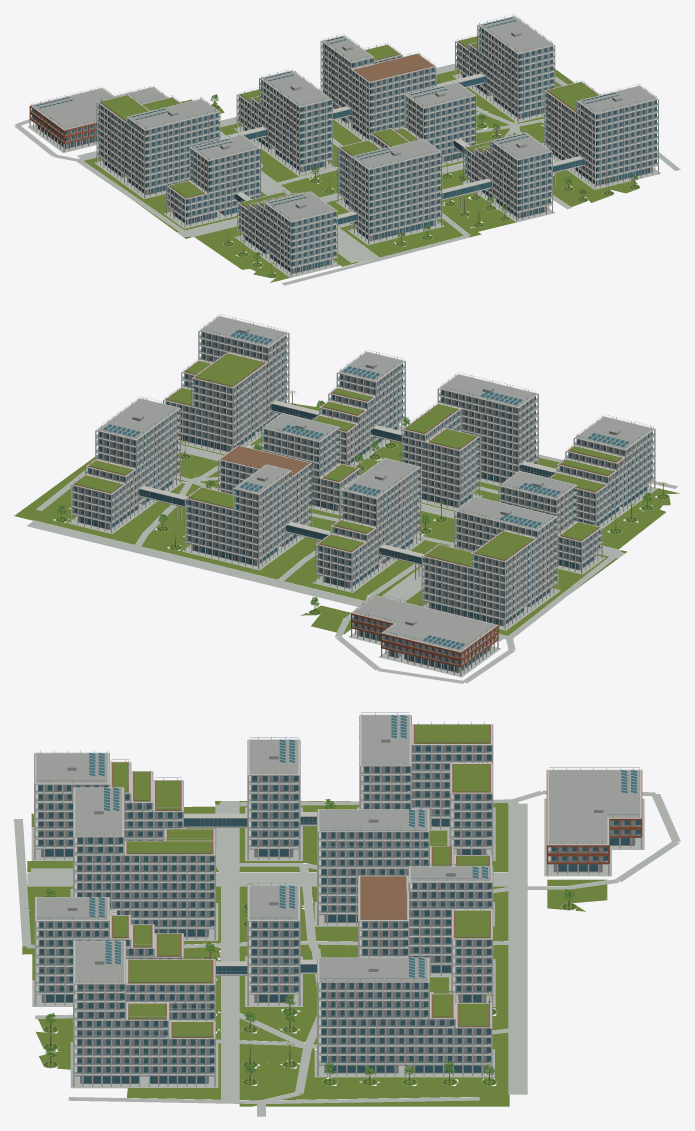
The model's file is dorm56-lod1.glb.
3 views of the same model, one above another, from view 1: azimuth 30°, elevation 25°; view 2: azimuth 150°, elevation 25°; view 3: azimuth 270°, elevation 25° (orthographic). The views are drawn at different scales.
Parts seen in each view (by area): view 1: projecting white floor bands | ivory metal.001, recessed grey dormitory walls | grey tile.001, blue recessed room windows | window.001, transparent balcony guards | glass rail.001, flat roofs and service enclosures | roof.001, courtyard and perimeter planted lawns | lawn.001, continuous courtyard paving | pale paving.001, window mullions and balcony rails | metal frame.001, terrace planted beds | lawn.001, terrace red paving | terrace pavers.001, elevated glass link decks and roof | ivory metal.001, glazed link curtain wall | window.001 (+3 smaller); view 2: projecting white floor bands | ivory metal.001, recessed grey dormitory walls | grey tile.001, blue recessed room windows | window.001, transparent balcony guards | glass rail.001, flat roofs and service enclosures | roof.001, courtyard and perimeter planted lawns | lawn.001, continuous courtyard paving | pale paving.001, terrace planted beds | lawn.001, window mullions and balcony rails | metal frame.001, terrace red paving | terrace pavers.001, red brick service building piers | brick.001, glazed link curtain wall | window.001 (+2 smaller); view 3: projecting white floor bands | ivory metal.001, blue recessed room windows | window.001, recessed grey dormitory walls | grey tile.001, continuous courtyard paving | pale paving.001, courtyard and perimeter planted lawns | lawn.001, flat roofs and service enclosures | roof.001, transparent balcony guards | glass rail.001, terrace planted beds | lawn.001, window mullions and balcony rails | metal frame.001, terrace red paving | terrace pavers.001, red brick service building piers | brick.001, layered leaf canopy | leaf shadow.001 (+4 smaller).
Part boxes in pixels (<box>): projecting white floor bands | ivory metal.001: <box>29,16,658,276</box>; recessed grey dormitory walls | grey tile.001: <box>35,29,654,273</box>; blue recessed room windows | window.001: <box>32,17,656,272</box>; transparent balcony guards | glass rail.001: <box>30,29,657,267</box>; flat roofs and service enclosures | roof.001: <box>32,16,656,221</box>; courtyard and perimeter planted lawns | lawn.001: <box>84,67,639,282</box>; continuous courtyard paving | pale paving.001: <box>14,63,680,285</box>; window mullions and balcony rails | metal frame.001: <box>31,14,657,271</box>; terrace planted beds | lawn.001: <box>100,37,598,208</box>; terrace red paving | terrace pavers.001: <box>99,36,598,209</box>; elevated glass link decks and roof | ivory metal.001: <box>219,73,583,226</box>; glazed link curtain wall | window.001: <box>235,76,584,224</box>; projecting white floor bands | ivory metal.001: <box>70,315,655,676</box>; recessed grey dormitory walls | grey tile.001: <box>74,332,651,672</box>; blue recessed room windows | window.001: <box>73,330,652,671</box>; transparent balcony guards | glass rail.001: <box>71,335,654,665</box>; flat roofs and service enclosures | roof.001: <box>98,316,652,651</box>; courtyard and perimeter planted lawns | lawn.001: <box>14,403,679,635</box>; continuous courtyard paving | pale paving.001: <box>26,425,677,683</box>; terrace planted beds | lawn.001: <box>75,353,620,566</box>; window mullions and balcony rails | metal frame.001: <box>72,314,654,668</box>; terrace red paving | terrace pavers.001: <box>73,353,622,567</box>; red brick service building piers | brick.001: <box>351,596,498,667</box>; glazed link curtain wall | window.001: <box>138,404,554,564</box>; projecting white floor bands | ivory metal.001: <box>34,714,642,1086</box>; blue recessed room windows | window.001: <box>38,715,640,1083</box>; recessed grey dormitory walls | grey tile.001: <box>38,745,637,1083</box>; continuous courtyard paving | pale paving.001: <box>14,790,680,1116</box>; courtyard and perimeter planted lawns | lawn.001: <box>22,801,607,1106</box>; flat roofs and service enclosures | roof.001: <box>36,715,639,982</box>; transparent balcony guards | glass rail.001: <box>35,751,640,1074</box>; terrace planted beds | lawn.001: <box>113,724,489,1036</box>; window mullions and balcony rails | metal frame.001: <box>36,712,640,1082</box>; terrace red paving | terrace pavers.001: <box>112,724,490,1037</box>; red brick service building piers | brick.001: <box>546,770,642,864</box>; layered leaf canopy | leaf shadow.001: <box>45,799,574,1075</box>.
Size of the model in its own units: 260 by 40.17 by 225.
